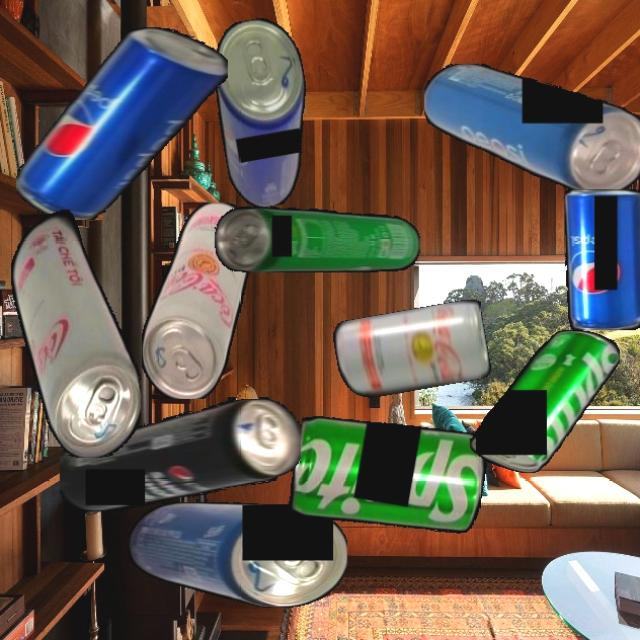debris: (16, 26, 228, 220), (10, 197, 141, 458), (287, 405, 491, 545), (423, 64, 640, 193), (58, 399, 300, 511), (204, 13, 325, 212), (128, 502, 347, 608), (141, 202, 252, 399), (469, 330, 620, 473), (331, 298, 492, 402), (215, 205, 420, 272), (565, 188, 640, 330)
